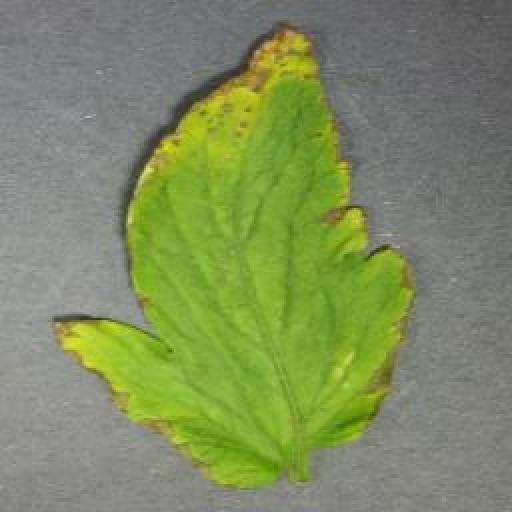Bacterial Spot: (50, 22, 418, 490)
